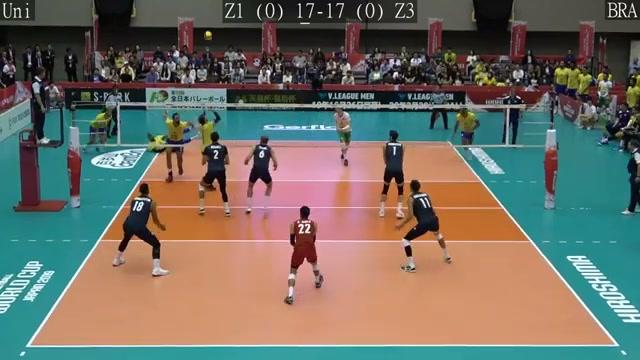ball: (201, 29, 215, 42)
